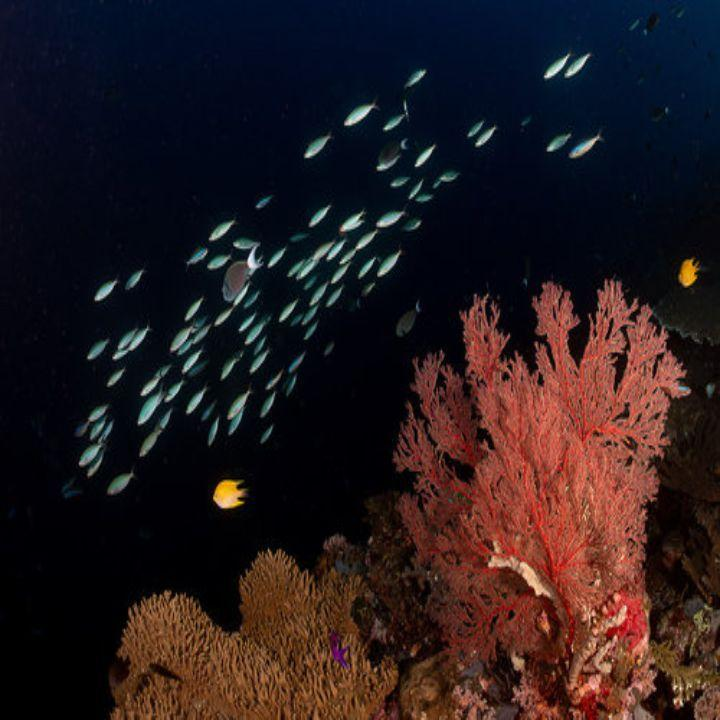Healthy Coral: (378, 274, 699, 702), (109, 520, 359, 719)
